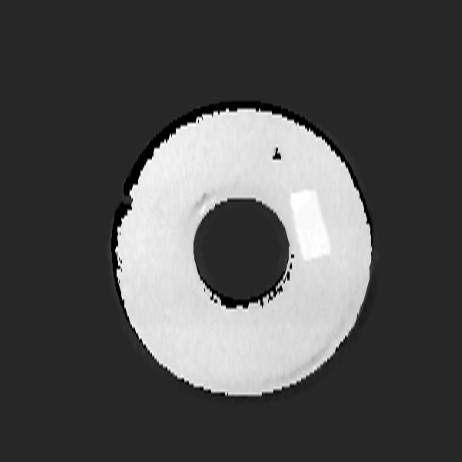defect: (272, 144, 282, 161)
